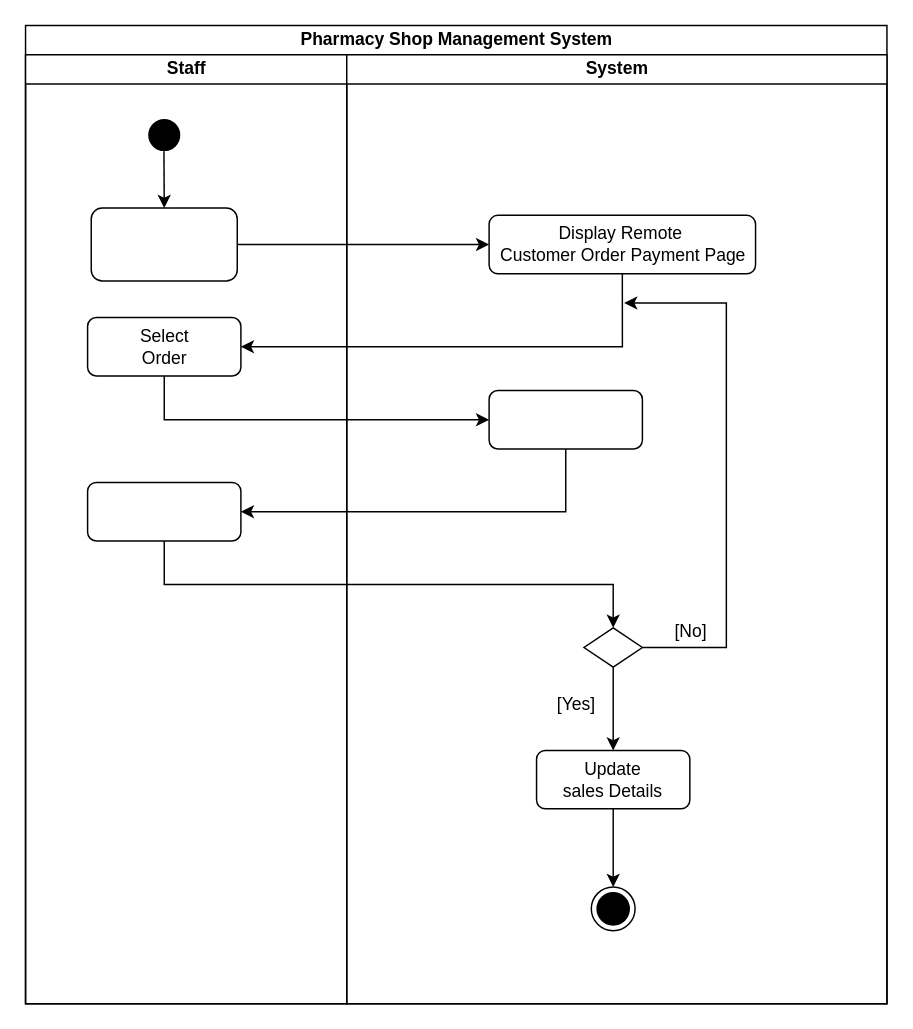
Image size: 913x1029. Some labels were removed from this diagram. The shapes that lost their labels are listed below. From the top down, each one's box as (x1, y1, x2, y2) in pixels, then its label:
(90, 207, 237, 281): Click Remote Customer Order Payment
(488, 389, 642, 449): Display Payment information
(86, 481, 241, 541): Click Pay Button
